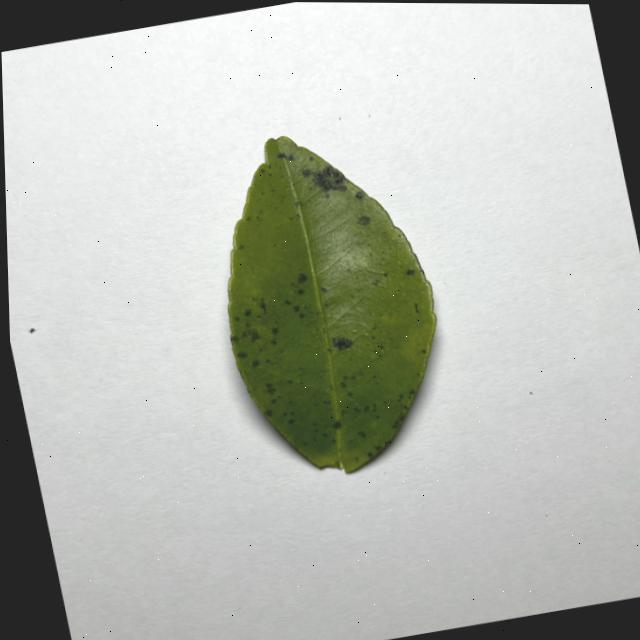sooty_mold: (227, 136, 434, 472)
